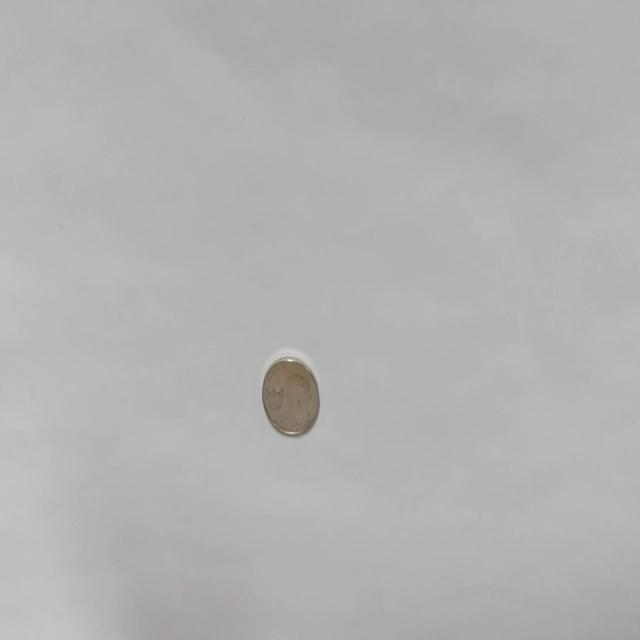seribu rupiah koin: (260, 350, 320, 438)
